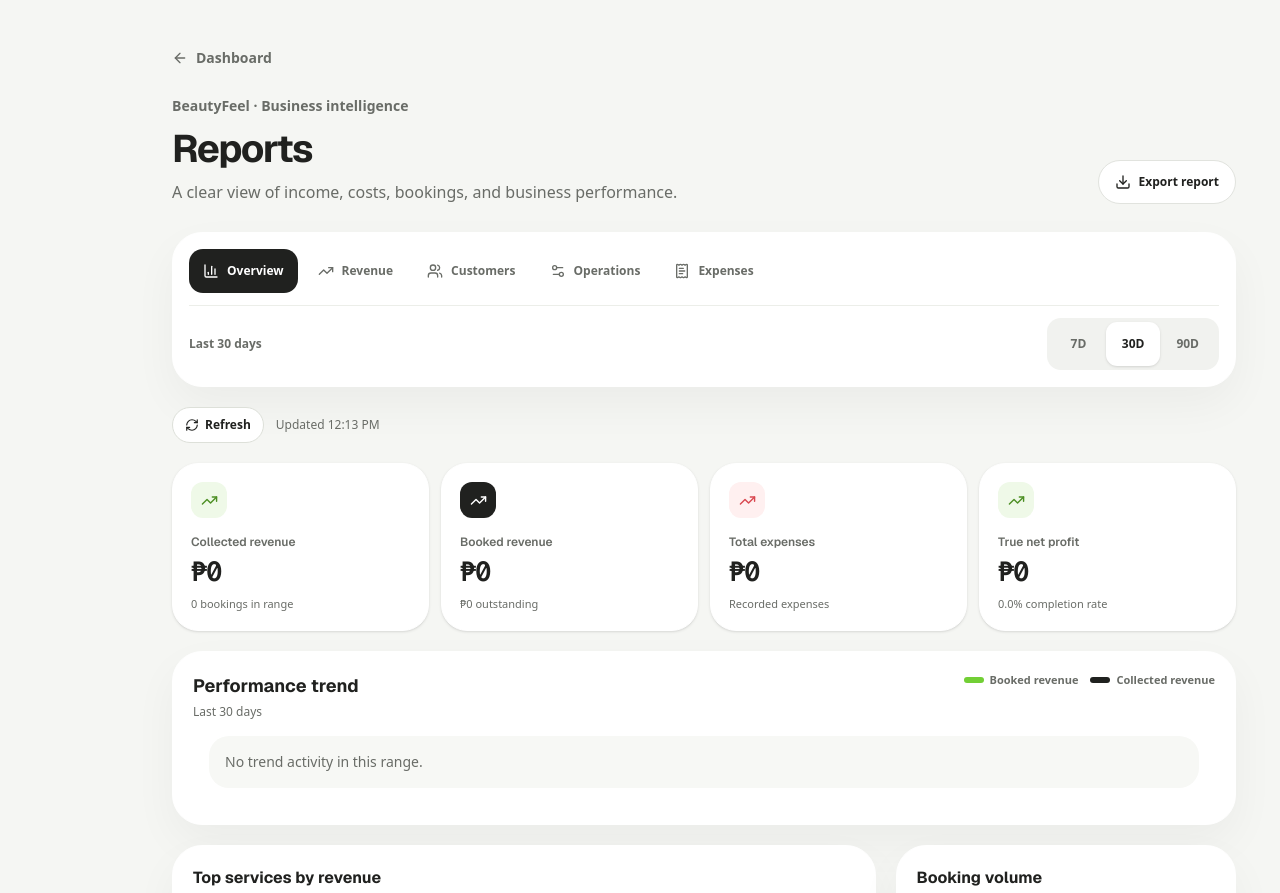
Test case: owner Growth and Reports preview cache › reports failed Reports tab switches and disables export for previous data
What coordinates should you click on to do the following:
click the tab "Revenue"
I would click on:
 (355, 271)
Its box is [304,249,407,293].
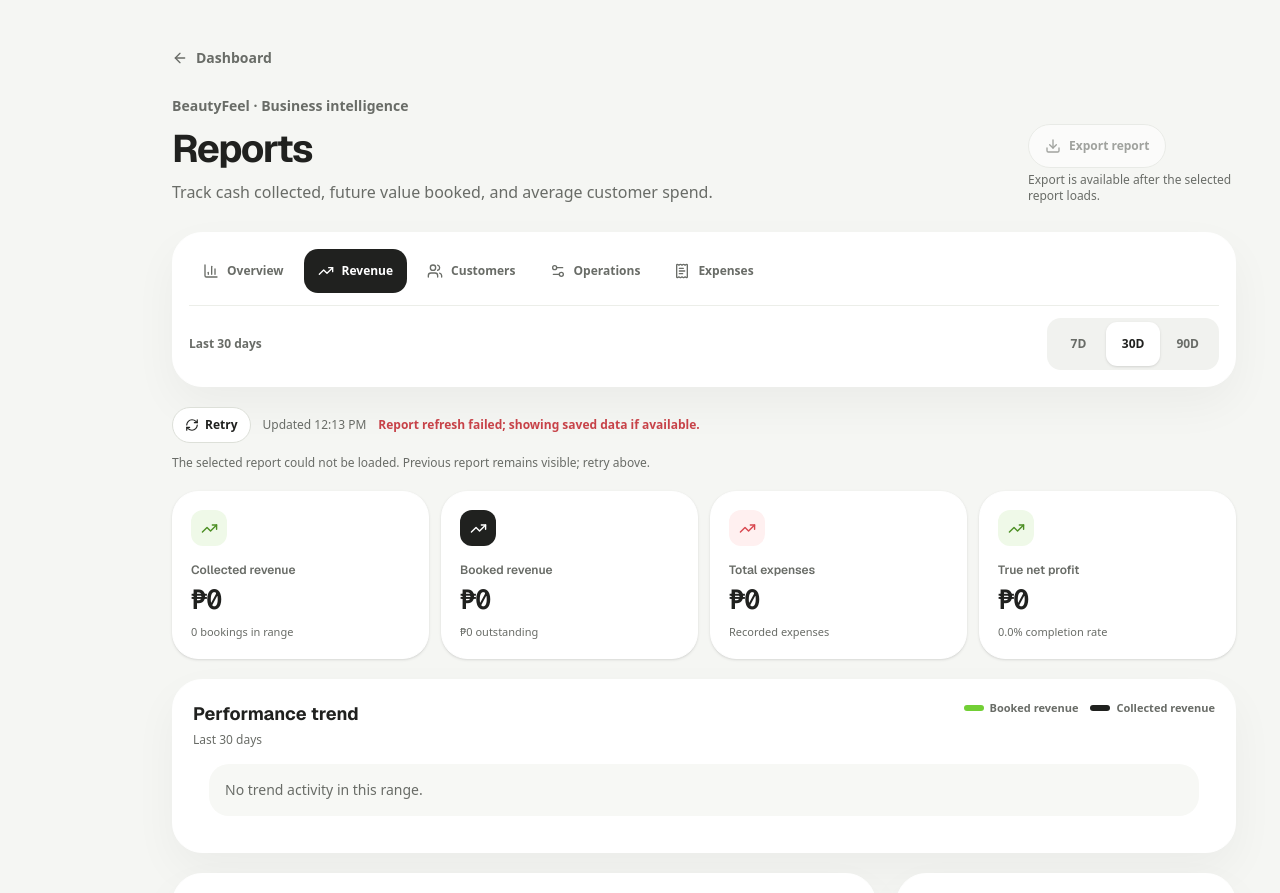
Check: the 1st text "₱0" is shown, box [191,581,221,617]
Check: the text "The selected report could not be loaded" is shown, box [172,454,650,471]
Check: the button with aria-label "Refresh reports" reads "Retry", box [172,407,250,443]
